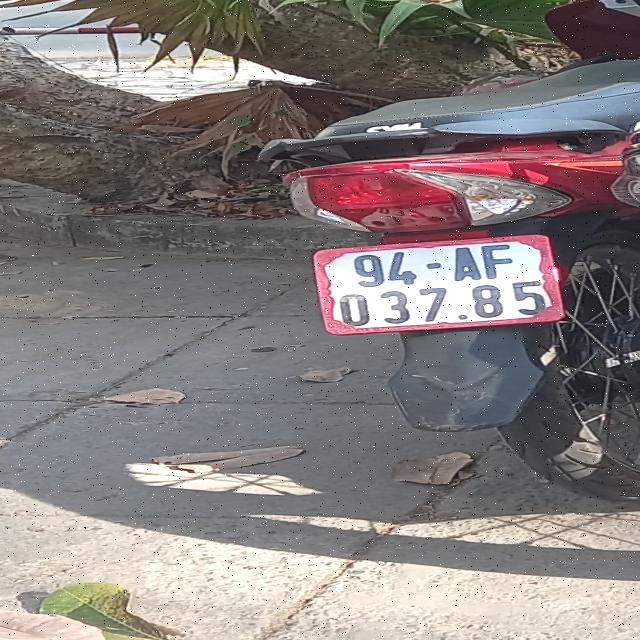0: (339, 294, 372, 326)
3: (380, 290, 411, 324)
4: (389, 251, 418, 287)
5: (511, 280, 550, 314)
7: (417, 287, 447, 323)
8: (471, 283, 507, 319)
9: (356, 255, 390, 288)
A: (448, 248, 482, 281)
F: (481, 244, 515, 279)
